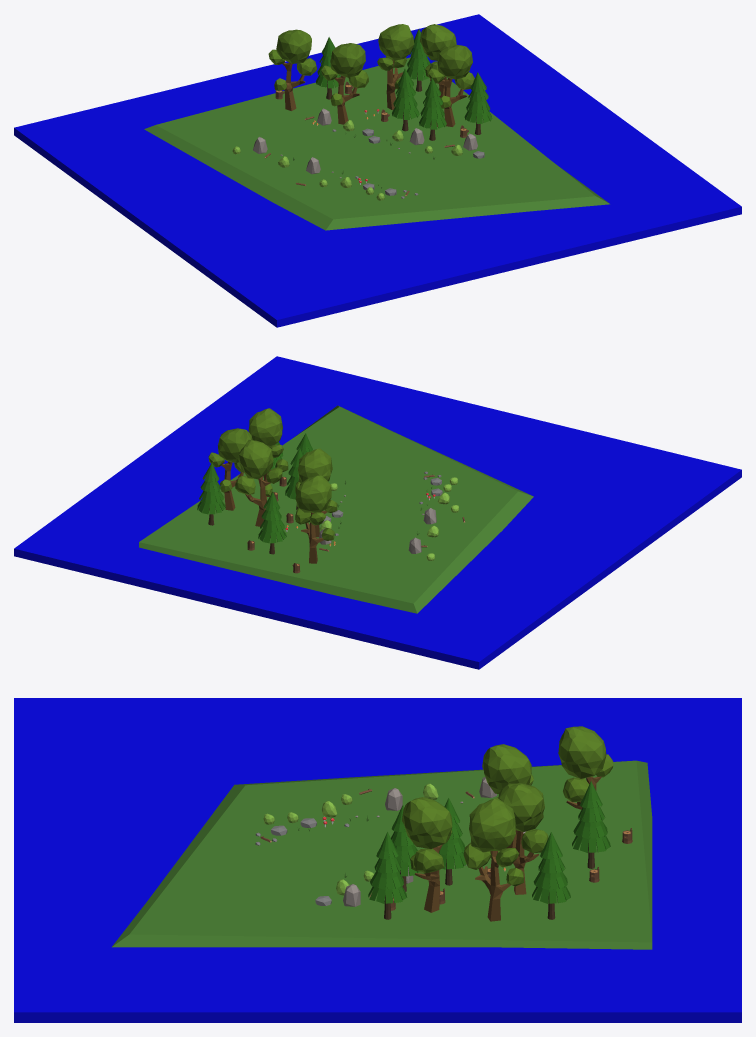
Rendered from Environment.glb.
The picture shows the model from 3 angles, top to bottom: view 1: azimuth 30°, elevation 25°; view 2: azimuth 150°, elevation 25°; view 3: azimuth 270°, elevation 25°; orthographic projection. The views are drawn at different scales.
Parts seen in each view (by area): view 1: Cube.001, Cube, Tree1, Tree1.001, Tree1.004, Tree1.002, Tree1.003, Tree2, Tree2.002, Tree2.001, Tree2.004, Tree2.003; view 2: Cube.001, Cube, Tree1.002, Tree1, Tree1.003, Tree1.004, Tree1.001, Tree2.004, Tree2.003; view 3: Cube.001, Cube, Tree1.003, Tree1.004, Tree1, Tree1.002, Tree1.001, Tree2.003, Tree2.004, Tree2, Tree2.001, Tree2.002.
Boxes of the visible parts, <box> form: Cube.001: <box>14,14,741,327</box>; Cube: <box>144,57,609,230</box>; Tree1: <box>268,29,317,110</box>; Tree1.001: <box>321,43,368,124</box>; Tree1.004: <box>428,45,474,126</box>; Tree1.002: <box>377,24,414,110</box>; Tree1.003: <box>420,24,456,97</box>; Tree2: <box>464,72,492,134</box>; Tree2.002: <box>419,78,446,140</box>; Tree2.001: <box>392,68,419,131</box>; Tree2.004: <box>407,29,430,91</box>; Tree2.003: <box>316,37,340,99</box>; Cube.001: <box>14,356,741,669</box>; Cube: <box>139,405,533,613</box>; Tree1.002: <box>235,439,282,526</box>; Tree1: <box>295,475,334,563</box>; Tree1.003: <box>208,428,252,510</box>; Tree1.004: <box>248,408,288,496</box>; Tree1.001: <box>295,448,337,537</box>; Tree2.004: <box>197,463,225,525</box>; Tree2.003: <box>258,492,286,554</box>; Cube.001: <box>14,698,741,1022</box>; Cube: <box>112,760,652,949</box>; Tree1.003: <box>463,798,524,921</box>; Tree1.004: <box>402,797,452,912</box>; Tree1: <box>558,726,613,809</box>; Tree1.002: <box>490,783,548,894</box>; Tree1.001: <box>482,744,533,848</box>; Tree2.003: <box>572,781,610,868</box>; Tree2.004: <box>532,832,570,919</box>; Tree2: <box>368,832,407,919</box>; Tree2.001: <box>439,798,466,885</box>; Tree2.002: <box>391,805,420,891</box>.
Bounding box in the file's own units: 127 × 24.85 × 124.
